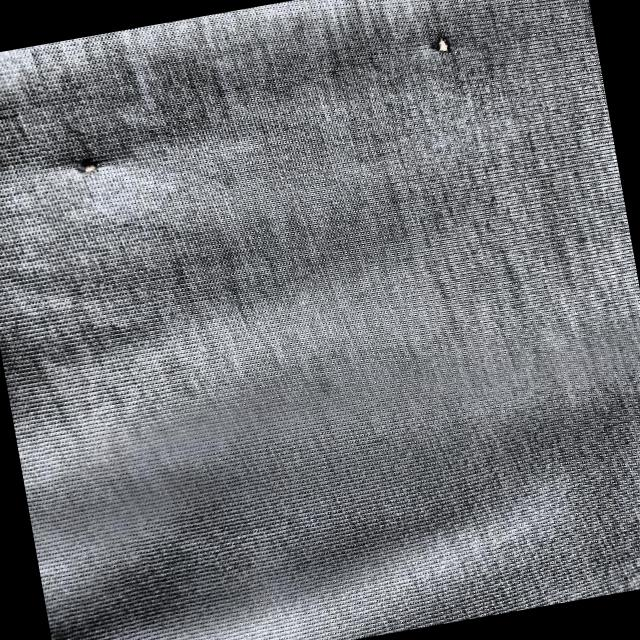cut: (66, 147, 108, 182), (424, 26, 459, 58)
